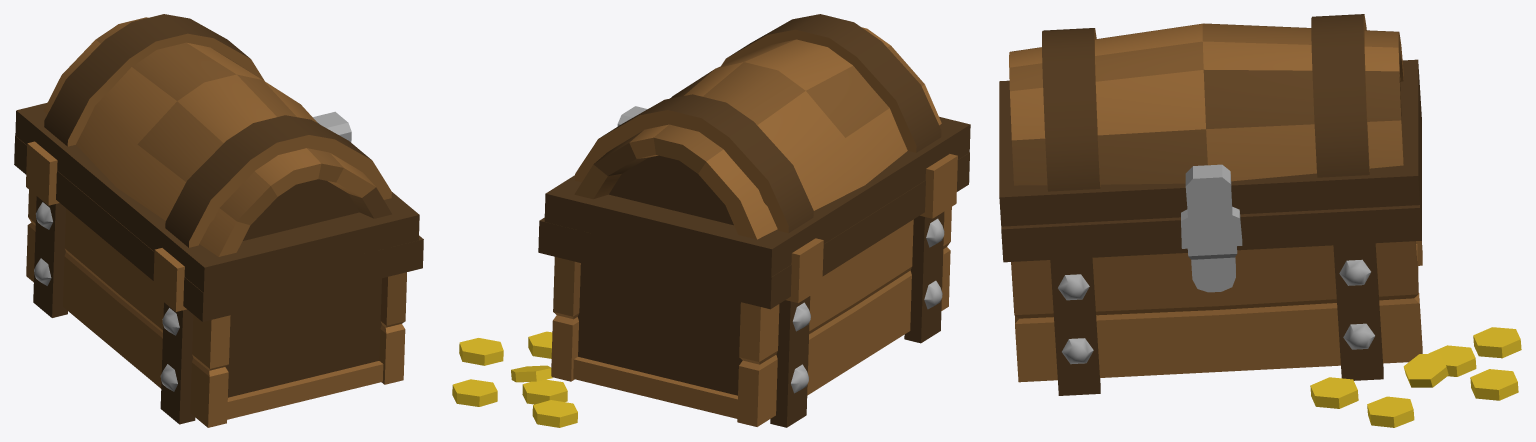
Rendered from tresureChest.glb.
The picture shows the model from 3 angles, left to right: view 1: azimuth 30°, elevation 25°; view 2: azimuth 150°, elevation 25°; view 3: azimuth 270°, elevation 25°; orthographic projection. The views are drawn at different scales.
Visible parts, largest first — view 1: chestTop, chestBottom; view 2: chestBottom, chestTop; view 3: chestTop, chestBottom.
Boxes of the visible parts, bbox=[...] form: chestTop: bbox=[15, 14, 419, 292]; chestBottom: bbox=[14, 135, 423, 427]; chestBottom: bbox=[452, 152, 969, 427]; chestTop: bbox=[544, 14, 970, 277]; chestTop: bbox=[999, 14, 1419, 248]; chestBottom: bbox=[1001, 90, 1521, 427].
Size of the model in its own units: 4.27 by 3.62 by 5.5.
